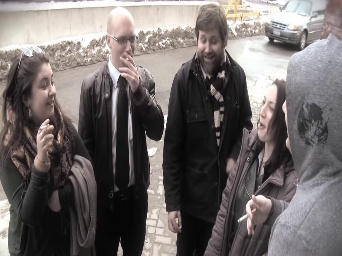smoke: (235, 207, 258, 223), (37, 123, 50, 133)
